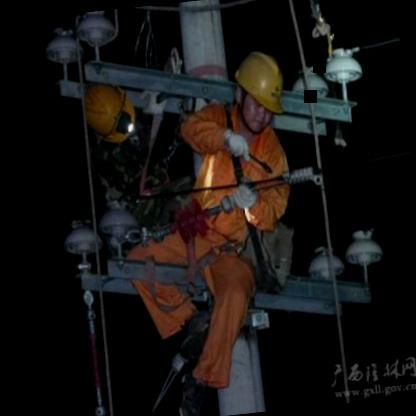helmet: (224, 38, 293, 138), (78, 75, 142, 150)
